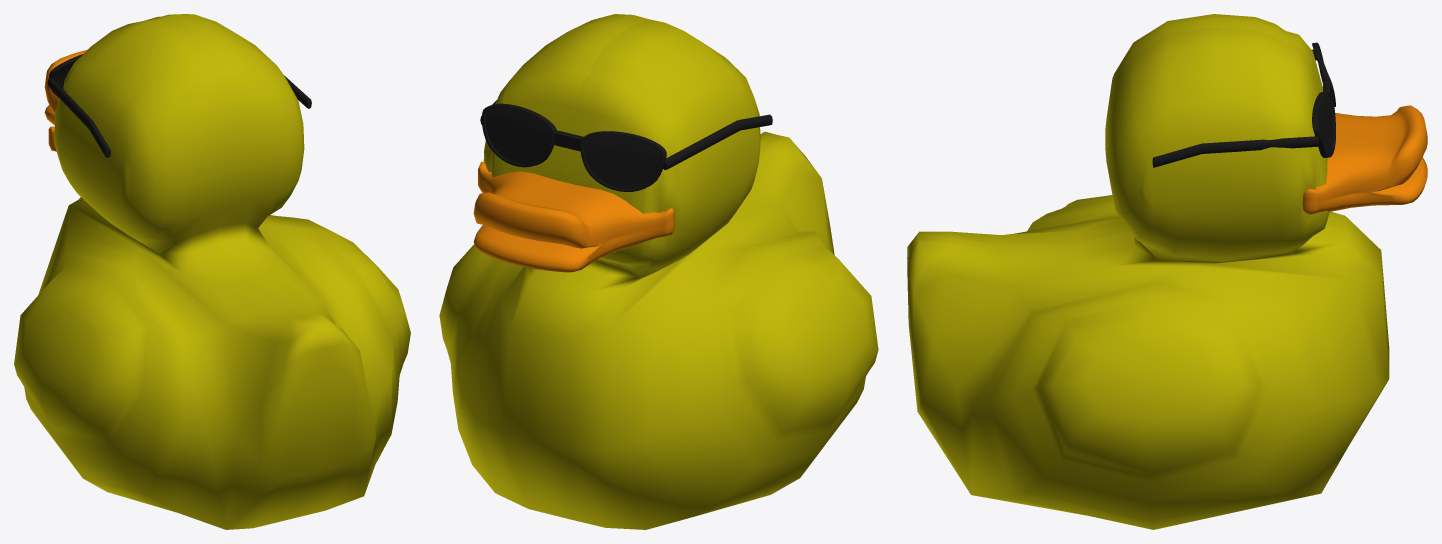
File: Duck.fbx
3 renders of one model, left to right at view 1: azimuth 30°, elevation 25°; view 2: azimuth 150°, elevation 25°; view 3: azimuth 270°, elevation 25°, orthographic. The views are drawn at different scales.
Visible parts, largest first — view 1: pCube6; view 2: pCube6; view 3: pCube6.
Part boxes in pixels (left/top/right/bottom): pCube6: left=14, top=14, right=410, bottom=529; pCube6: left=439, top=14, right=878, bottom=529; pCube6: left=907, top=14, right=1427, bottom=529.
Bounding box in the file's own units: 5.63 × 6.84 × 6.88.
